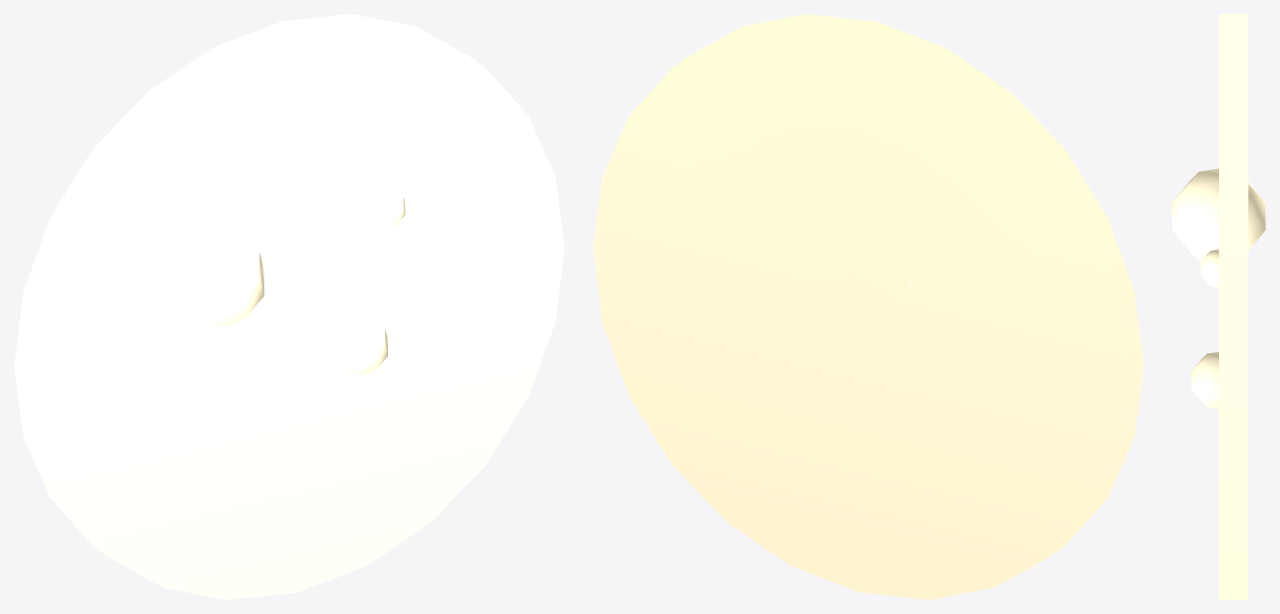
Rendered from bg_moon.glb.
3 renders of one model, left to right at view 1: azimuth 30°, elevation 25°; view 2: azimuth 150°, elevation 25°; view 3: azimuth 270°, elevation 25°, orthographic. The views are drawn at different scales.
Size of the model in its own units: 120 by 120 by 19.02.
